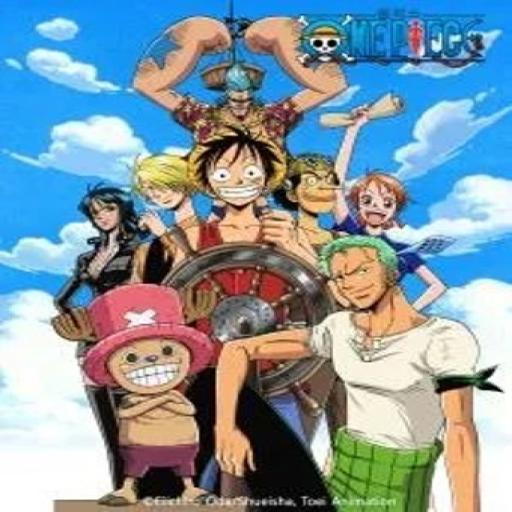Luffy: (182, 126, 284, 214)
Nami: (344, 168, 424, 232)
NicoRobin: (69, 184, 143, 246)
Usopp: (277, 146, 351, 217)
Zoro: (316, 232, 405, 316)
sanji: (118, 145, 196, 213)
